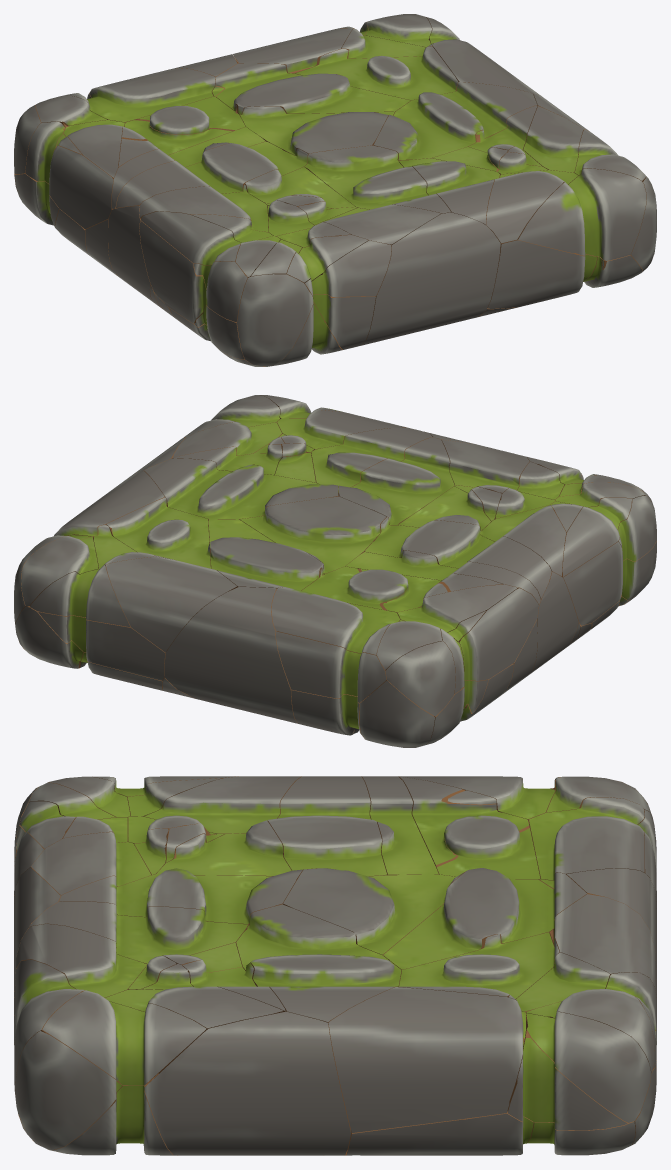
Rendered from arena block 5 broken.fbx.
3 renders of one model, top to bottom at view 1: azimuth 30°, elevation 25°; view 2: azimuth 150°, elevation 25°; view 3: azimuth 270°, elevation 25°, orthographic. The views are drawn at different scales.
Visible parts, largest first — view 1: arena block 5 lp_cell.091, arena block 5 lp_cell.018, arena block 5 lp_cell.030, arena block 5 lp_cell.052, arena block 5 lp_cell.035, arena block 5 lp_cell.061, arena block 5 lp_cell.071, arena block 5 lp_cell.042, arena block 5 lp_cell.060, arena block 5 lp_cell.039, arena block 5 lp_cell.096, arena block 5 lp_cell.004 (+42 smaller); view 2: arena block 5 lp_cell.059, arena block 5 lp_cell.030, arena block 5 lp_cell.070, arena block 5 lp_cell.060, arena block 5 lp_cell.035, arena block 5 lp_cell.061, arena block 5 lp_cell.052, arena block 5 lp_cell.096, arena block 5 lp_cell.019, arena block 5 lp_cell.039, arena block 5 lp_cell.004, arena block 5 lp_cell.065 (+41 smaller); view 3: arena block 5 lp_cell.006, arena block 5 lp_cell.094, arena block 5 lp_cell.030, arena block 5 lp_cell.052, arena block 5 lp_cell.035, arena block 5 lp_cell.082, arena block 5 lp_cell.060, arena block 5 lp_cell.007, arena block 5 lp_cell.011, arena block 5 lp_cell.061, arena block 5 lp_cell.096, arena block 5 lp_cell.008 (+38 smaller).
Part boxes in pixels (left/top/right/bottom): arena block 5 lp_cell.091: left=361, top=212, right=500, bottom=345; arena block 5 lp_cell.018: left=518, top=168, right=646, bottom=260; arena block 5 lp_cell.030: left=373, top=82, right=537, bottom=161; arena block 5 lp_cell.052: left=215, top=63, right=410, bottom=115; arena block 5 lp_cell.035: left=116, top=141, right=308, bottom=208; arena block 5 lp_cell.061: left=304, top=145, right=451, bottom=213; arena block 5 lp_cell.071: left=237, top=274, right=313, bottom=366; arena block 5 lp_cell.042: left=487, top=240, right=597, bottom=308; arena block 5 lp_cell.060: left=240, top=106, right=394, bottom=155; arena block 5 lp_cell.039: left=295, top=46, right=458, bottom=100; arena block 5 lp_cell.096: left=62, top=68, right=215, bottom=123; arena block 5 lp_cell.004: left=49, top=145, right=113, bottom=228; arena block 5 lp_cell.059: left=164, top=587, right=297, bottom=723; arena block 5 lp_cell.030: left=144, top=458, right=338, bottom=526; arena block 5 lp_cell.070: left=106, top=556, right=236, bottom=652; arena block 5 lp_cell.060: left=239, top=496, right=386, bottom=574; arena block 5 lp_cell.035: left=365, top=517, right=551, bottom=598; arena block 5 lp_cell.061: left=338, top=437, right=454, bottom=525; arena block 5 lp_cell.052: left=208, top=519, right=323, bottom=590; arena block 5 lp_cell.096: left=271, top=587, right=400, bottom=656; arena block 5 lp_cell.019: left=275, top=631, right=386, bottom=702; arena block 5 lp_cell.039: left=106, top=497, right=210, bottom=568; arena block 5 lp_cell.004: left=458, top=588, right=538, bottom=680; arena block 5 lp_cell.065: left=38, top=611, right=165, bottom=680; arena block 5 lp_cell.006: left=144, top=1011, right=351, bottom=1155; arena block 5 lp_cell.094: left=328, top=987, right=525, bottom=1132; arena block 5 lp_cell.030: left=236, top=904, right=401, bottom=1024; arena block 5 lp_cell.052: left=383, top=868, right=587, bottom=971; arena block 5 lp_cell.035: left=267, top=776, right=387, bottom=876; arena block 5 lp_cell.082: left=42, top=990, right=206, bottom=1085; arena block 5 lp_cell.060: left=283, top=868, right=466, bottom=955; arena block 5 lp_cell.007: left=15, top=1031, right=122, bottom=1150; arena block 5 lp_cell.011: left=526, top=1012, right=651, bottom=1122; arena block 5 lp_cell.061: left=59, top=868, right=302, bottom=925; arena block 5 lp_cell.096: left=529, top=797, right=644, bottom=880; arena block 5 lp_cell.008: left=29, top=901, right=248, bottom=964.
Size of the model in its own units: 200 by 49.94 by 200.
